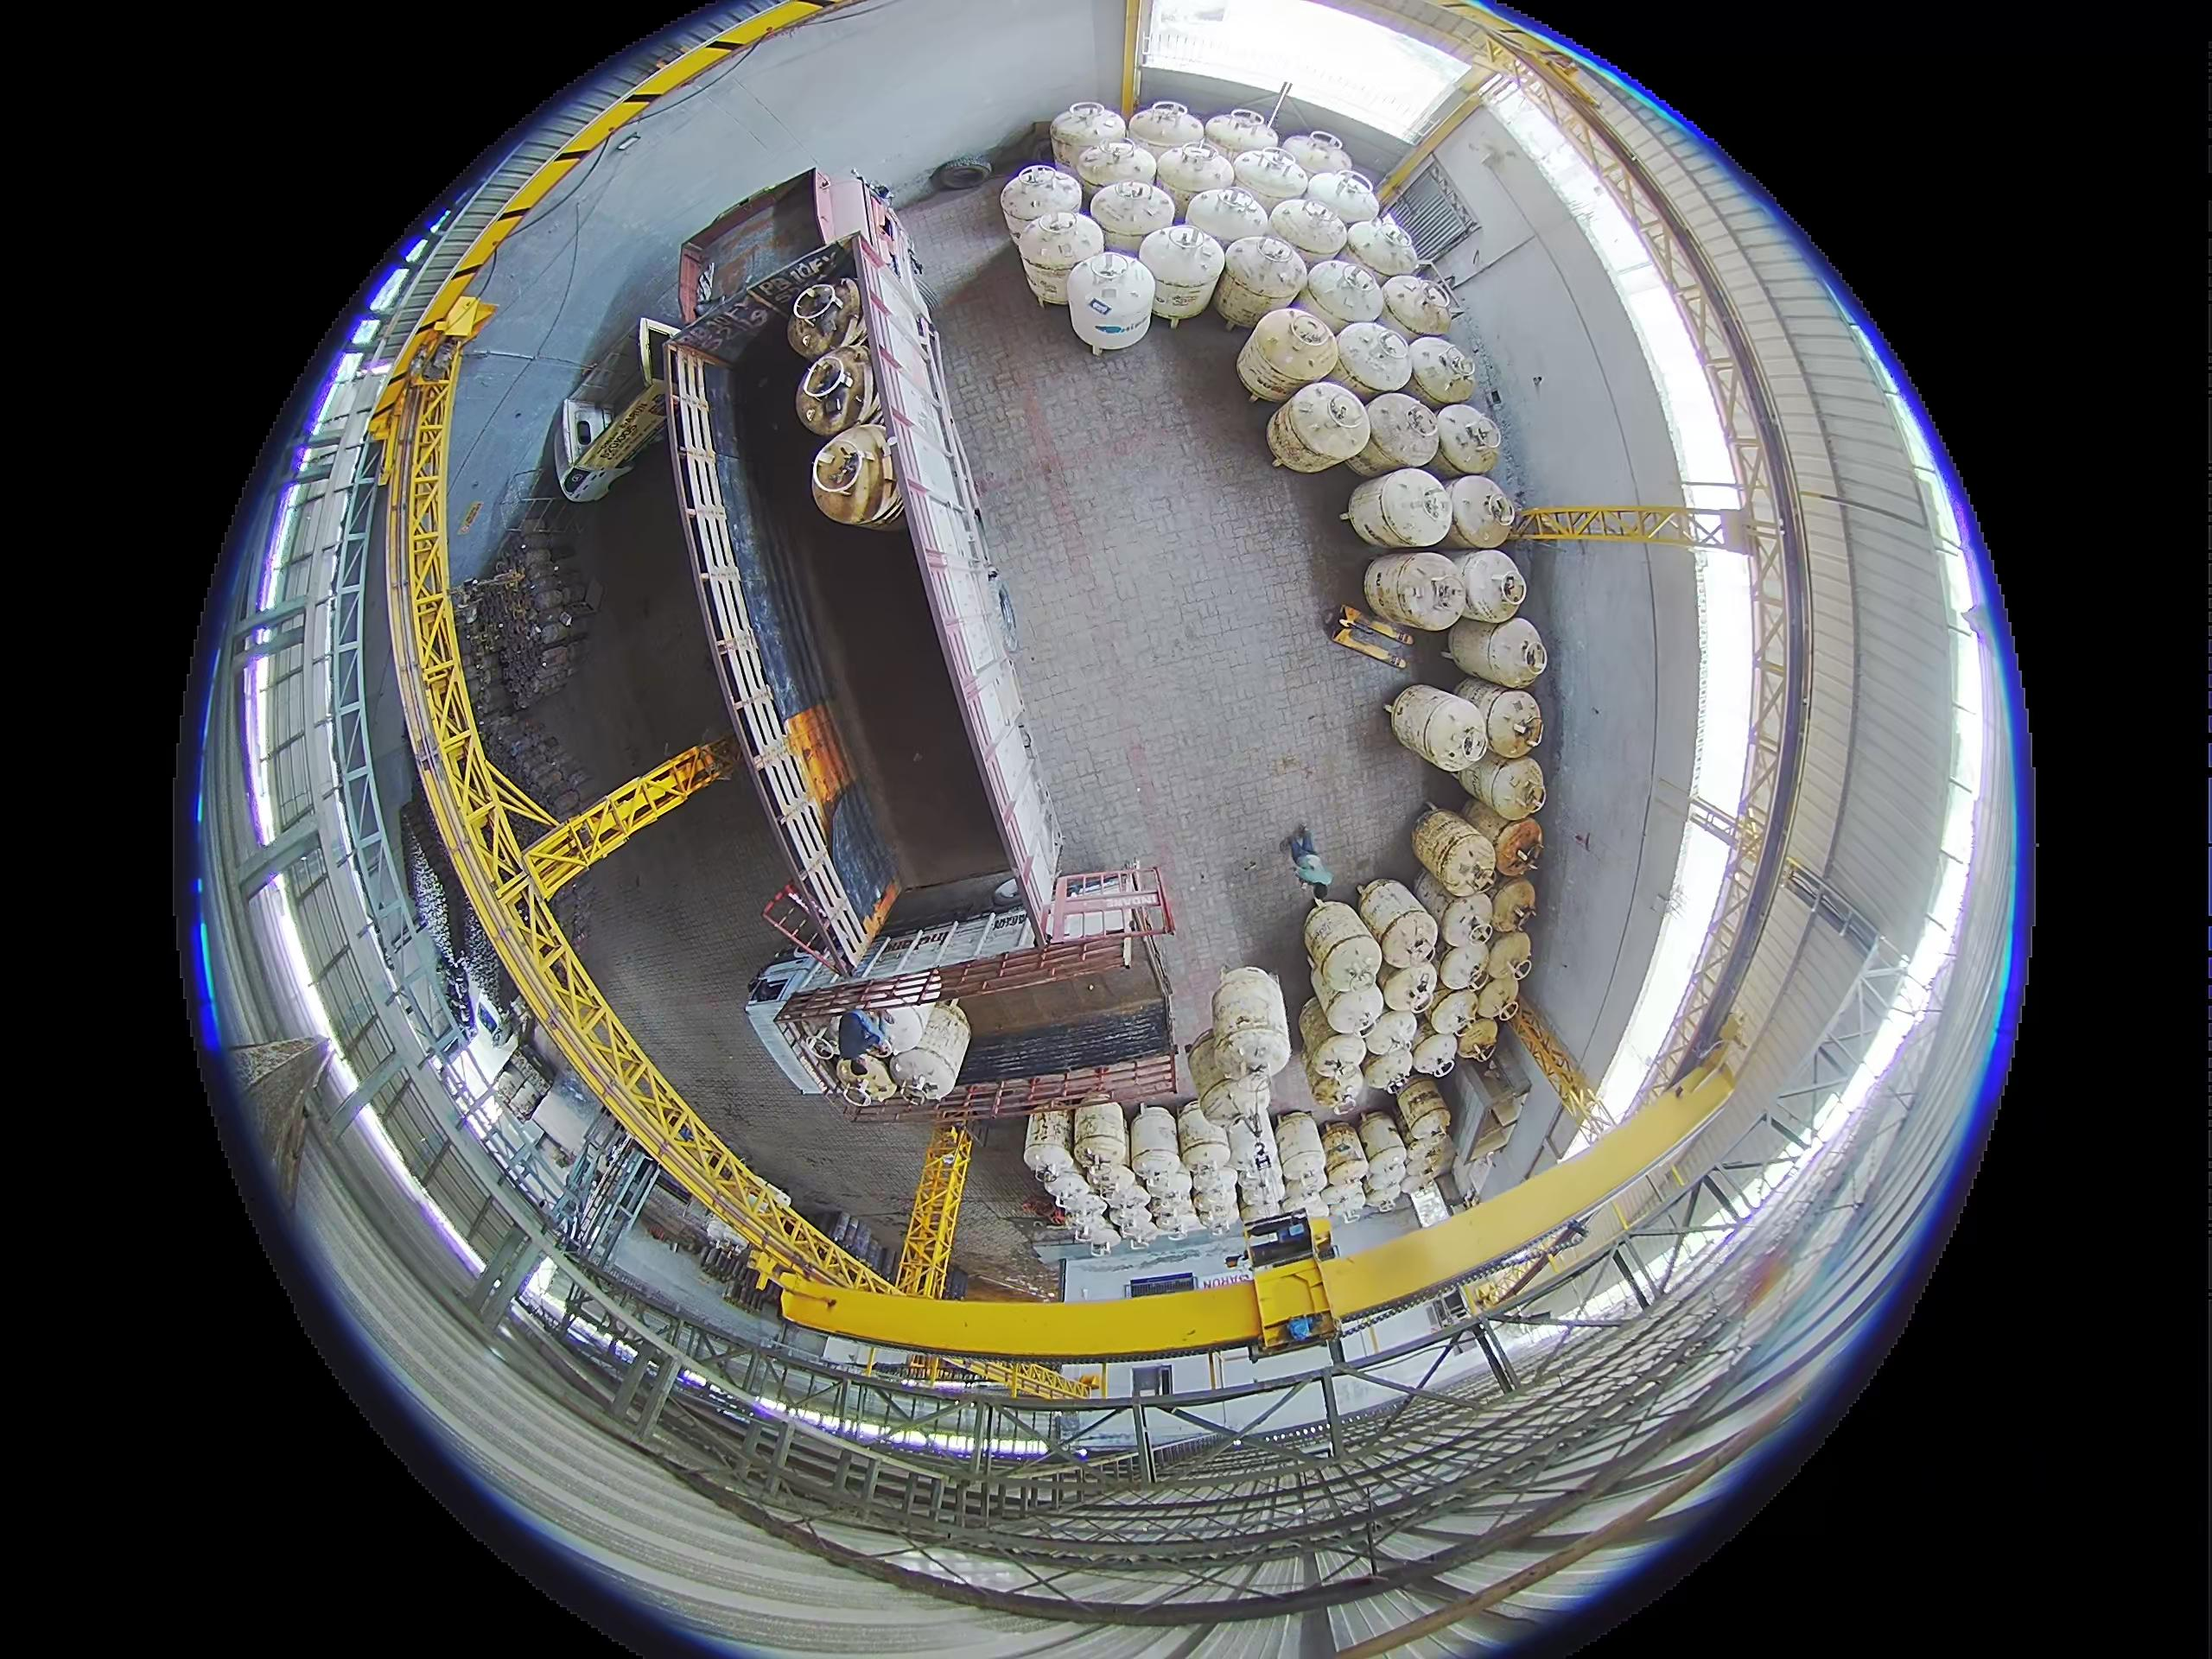cylinder: (1344, 467, 1452, 548)
truck: (682, 209, 1068, 1021), (745, 867, 1176, 1119), (553, 318, 674, 502)
